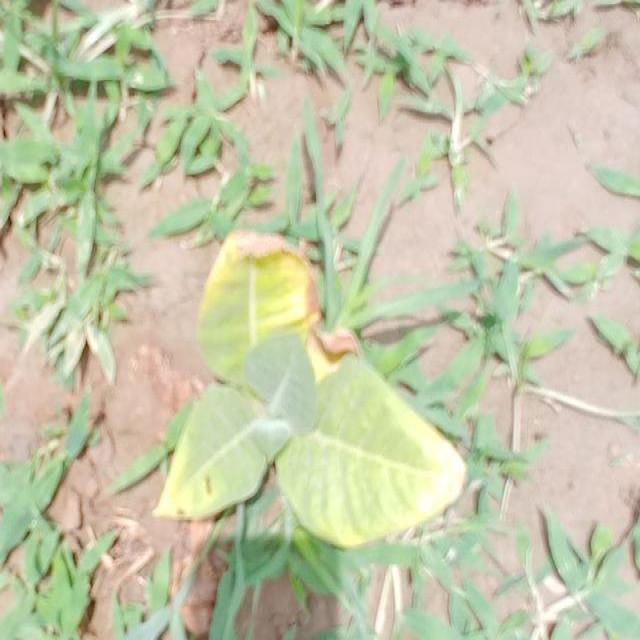crop: (154, 231, 466, 557)
